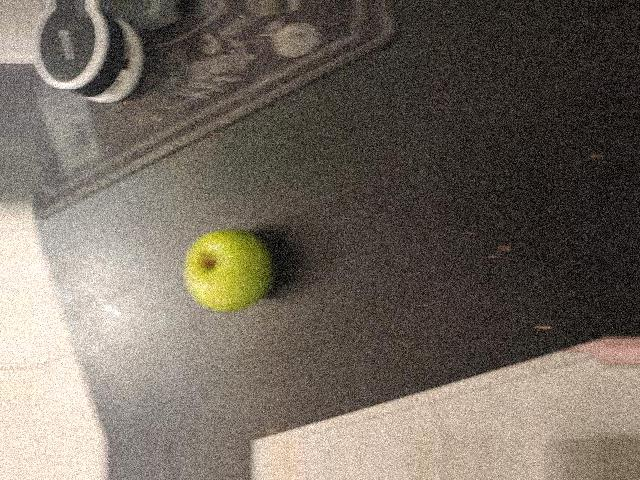apple: (151, 150, 259, 274)
